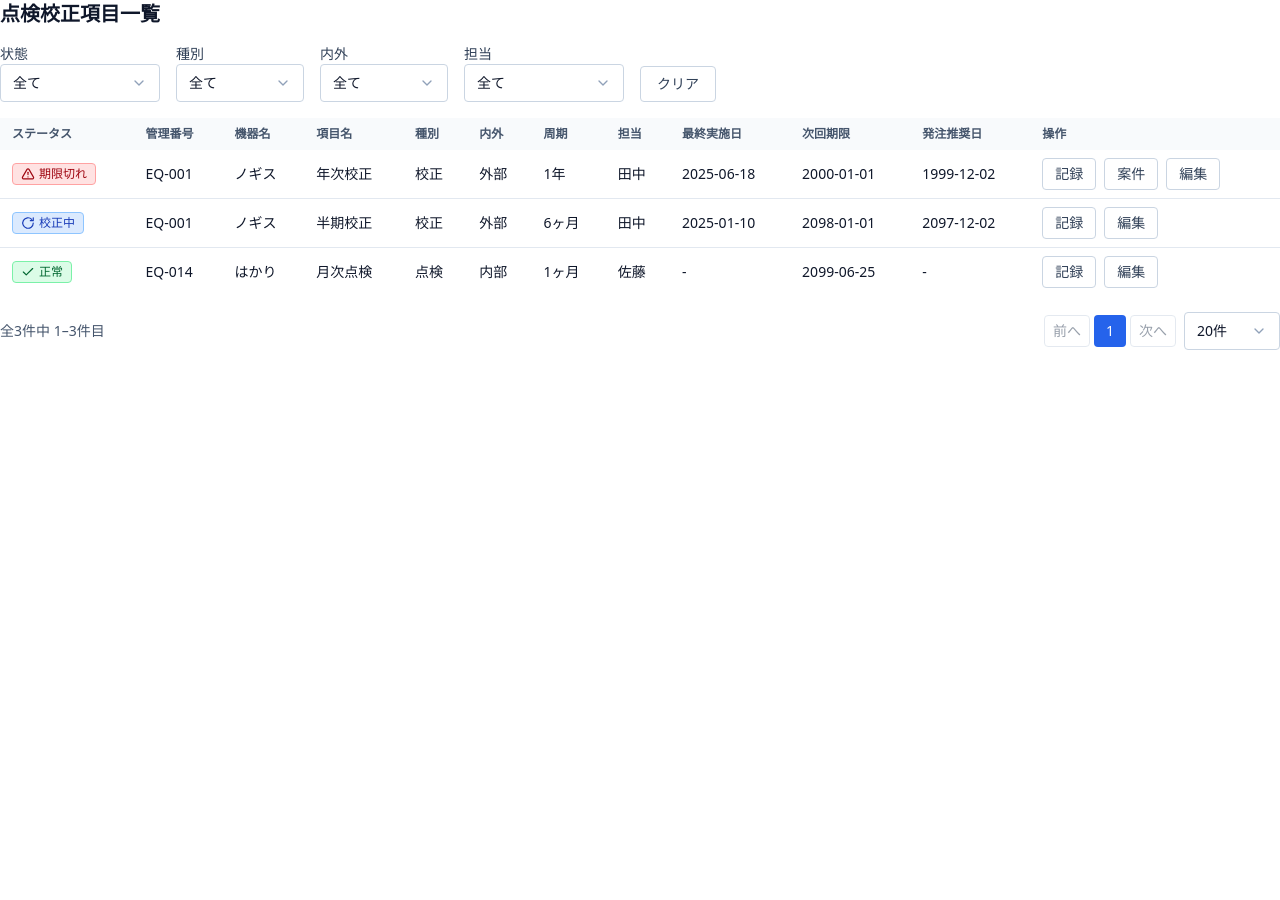
ServiceItemList: モーダル起動 › モーダルを閉じると起動 state がリセットされ再度開き直せる
Click the button "編集" in the row of "期限切れ" at point(1193, 174), box [1166, 158, 1220, 190]
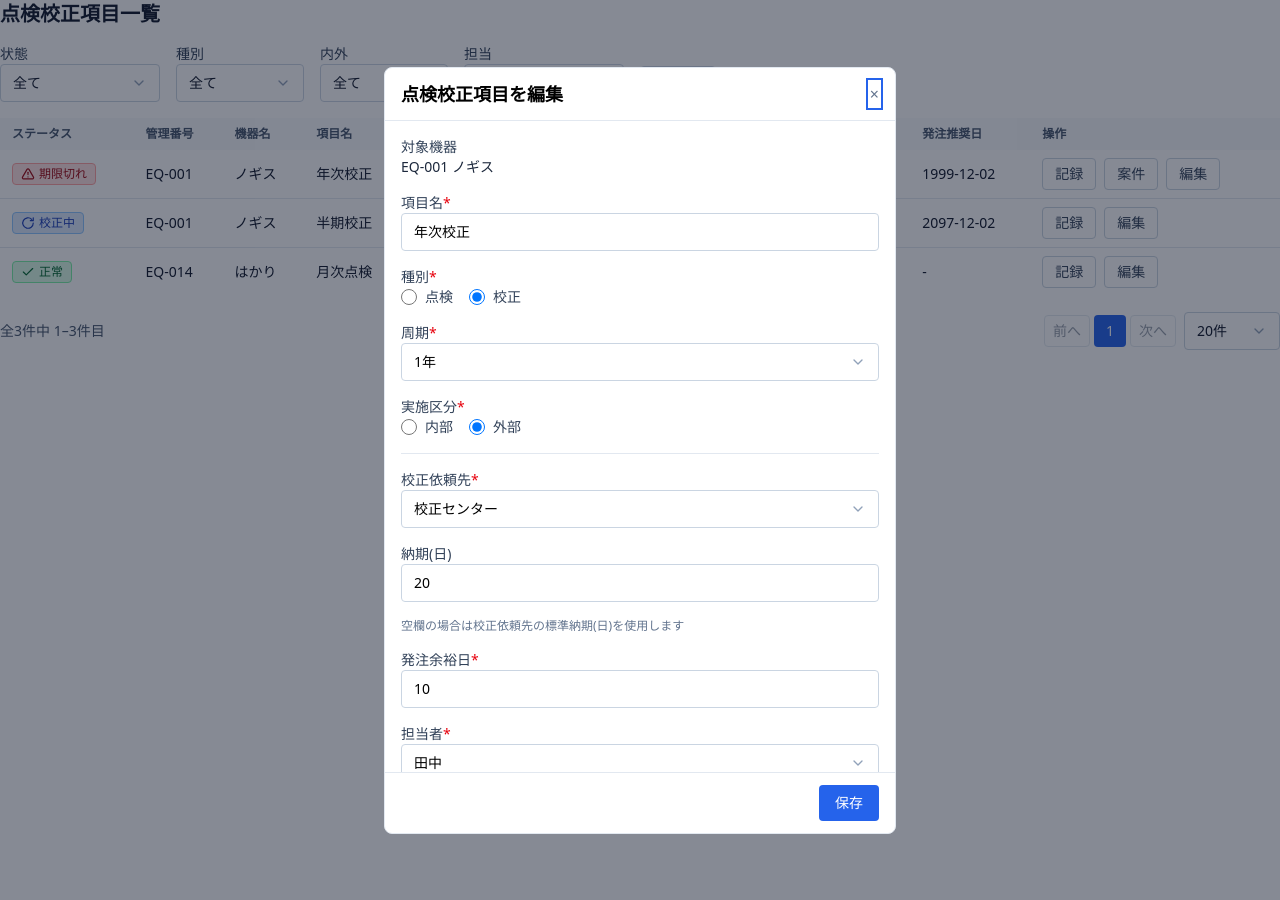
Click the button named "閉じる" at point(874, 94), box [870, 82, 879, 106]
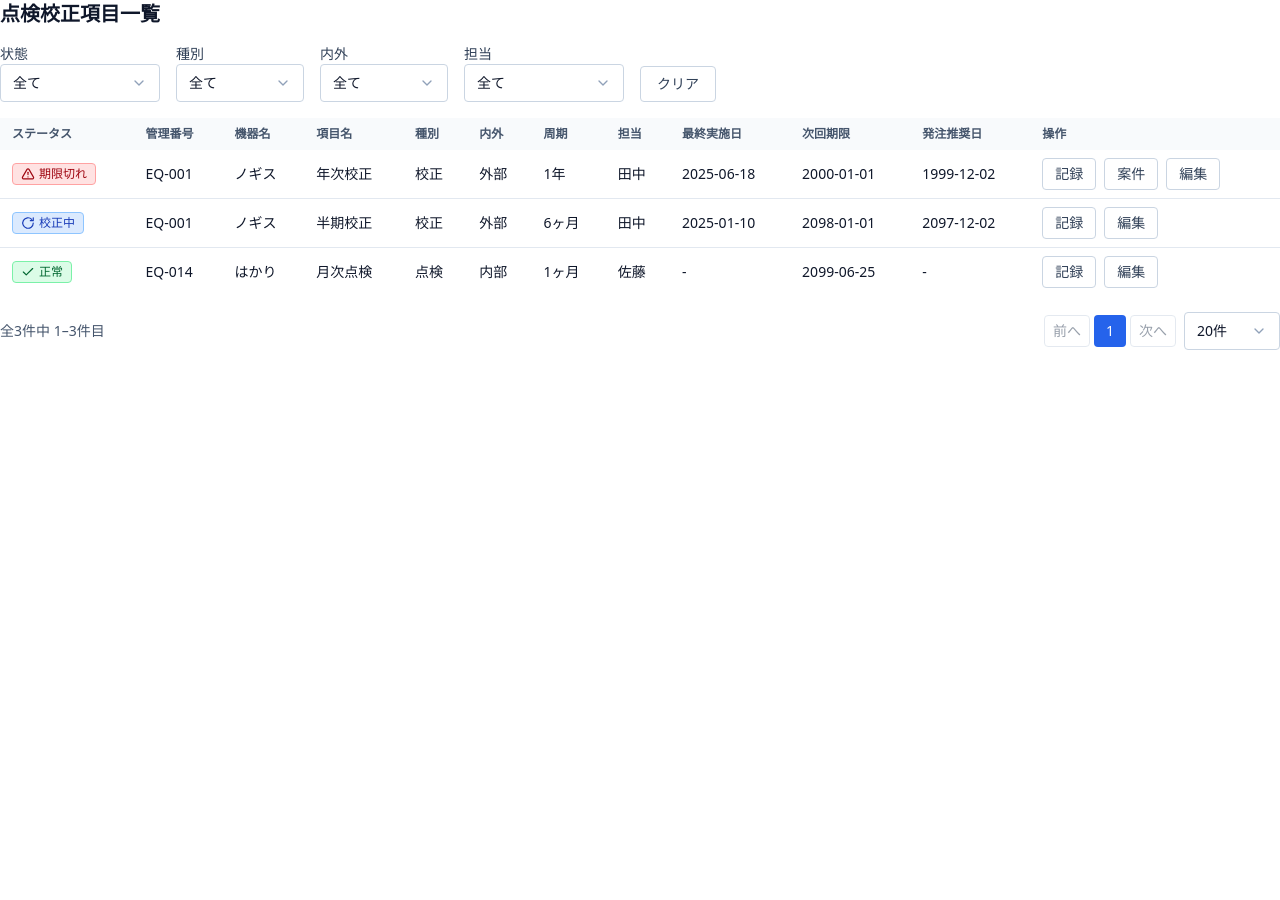
Expected: the heading "点検校正項目を編集" is gone
Click the button "記録" in the row of "期限切れ" at point(1069, 174), box [1042, 158, 1096, 190]
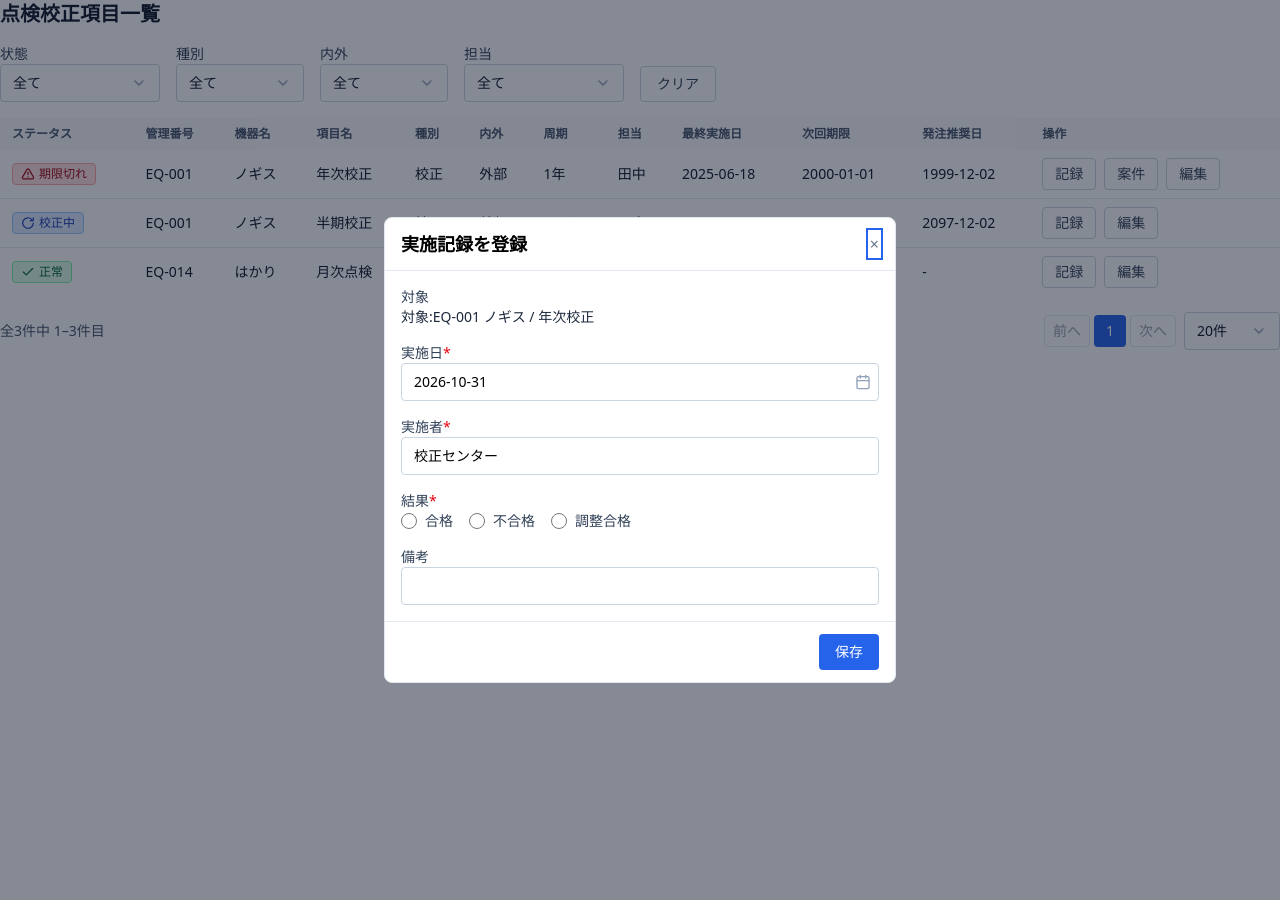
Expected: the text "実施記録を登録" is shown, [401, 232, 527, 256]
